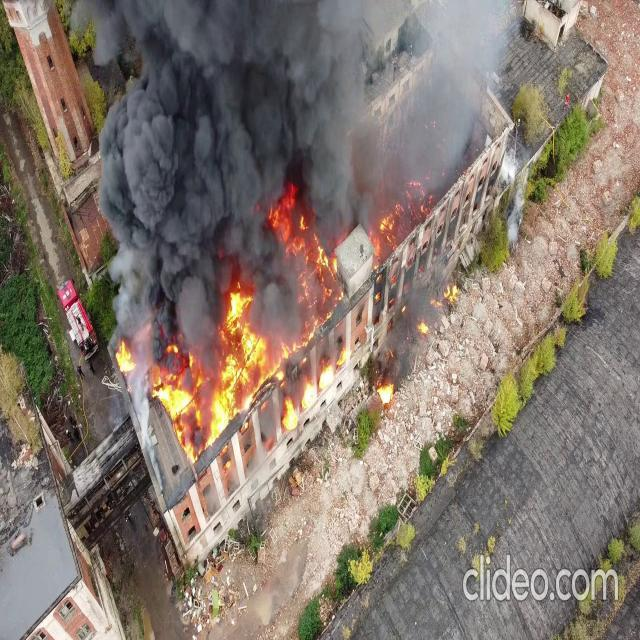Fire: (146, 265, 427, 457), (149, 274, 360, 464), (113, 335, 137, 379), (371, 374, 398, 410)
Smoke: (54, 0, 442, 304)
